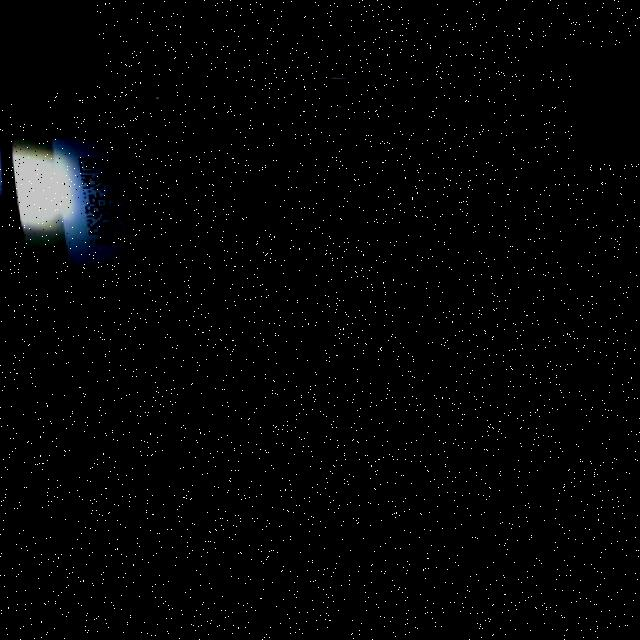QR_CODE: (68, 145, 218, 251), (261, 232, 344, 298), (294, 155, 370, 215)
